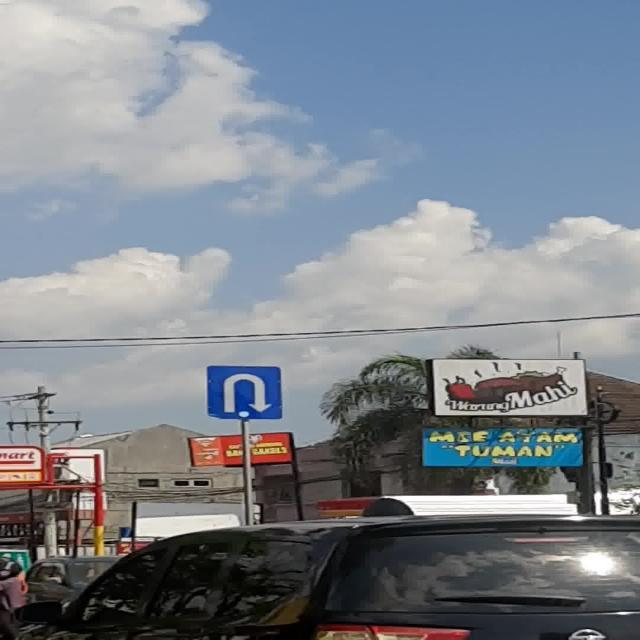Putar Balik: (206, 366, 283, 420)
